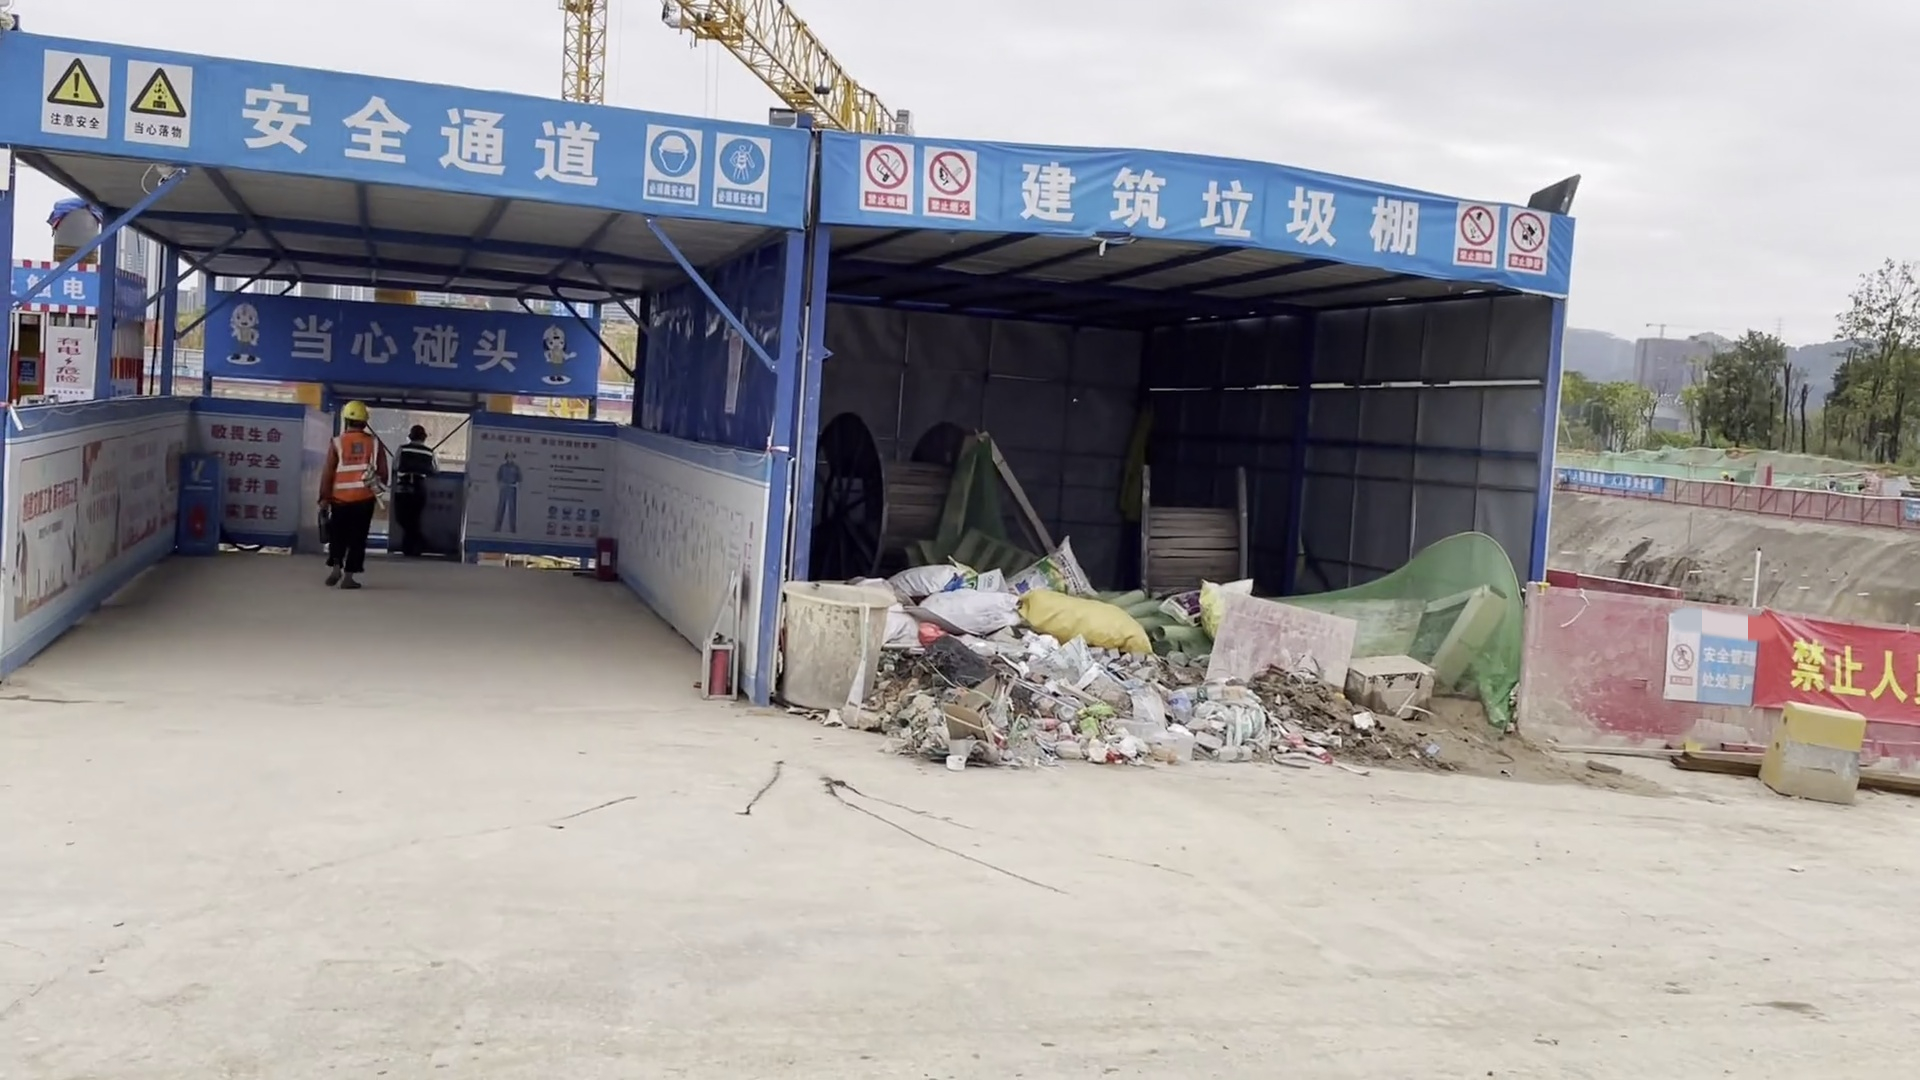helmet: (341, 401, 371, 427)
person: (330, 392, 384, 594), (395, 412, 435, 548)
slogan: (10, 29, 1565, 318), (202, 275, 619, 388), (1747, 605, 1920, 740)
vest: (334, 425, 384, 499)
